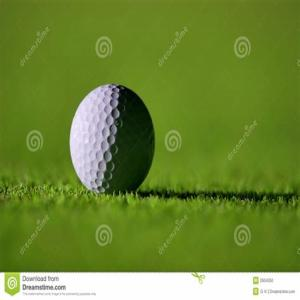Golf: (68, 82, 155, 194)
